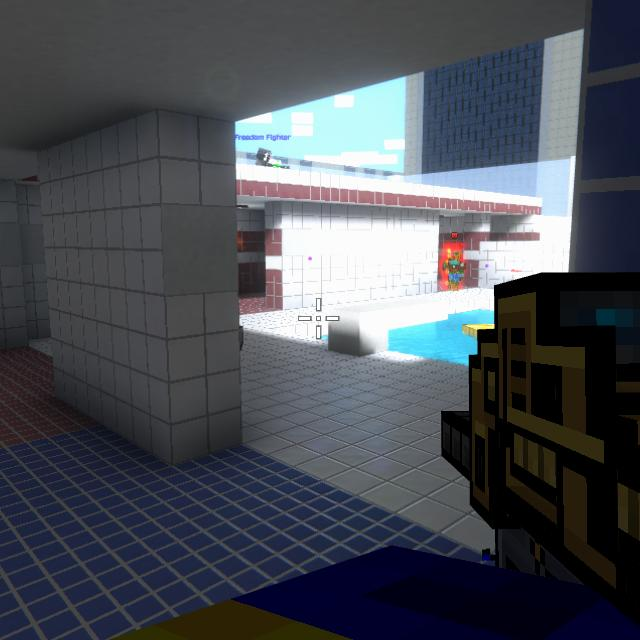Enemy: (443, 252, 467, 291)
